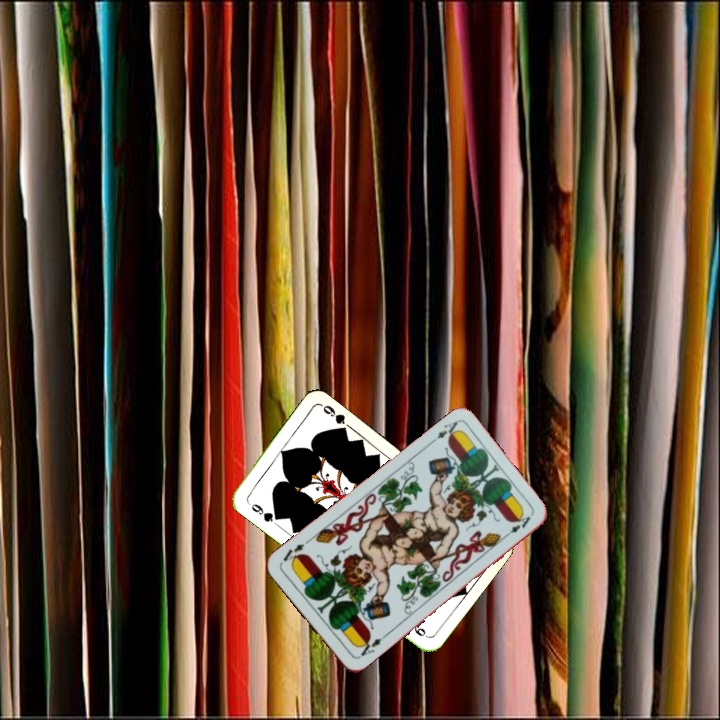EA: (425, 417, 462, 447), (354, 631, 388, 661)
G9: (243, 497, 280, 525)
